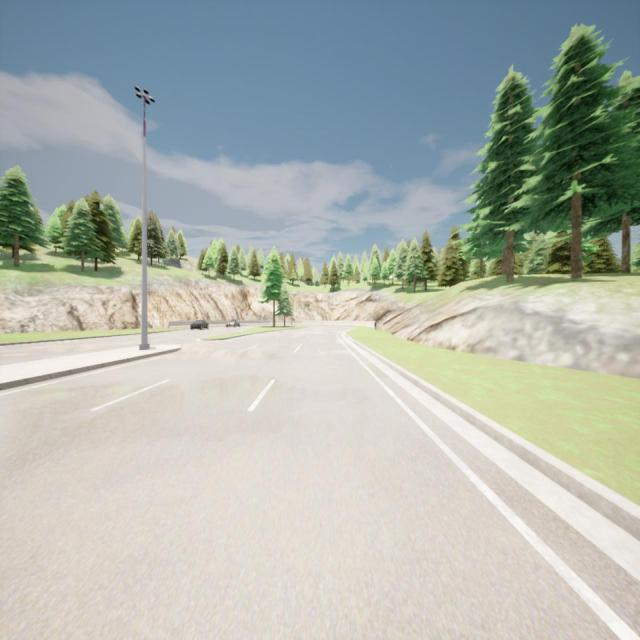Vehicle: (190, 320, 209, 332), (223, 320, 240, 329)
